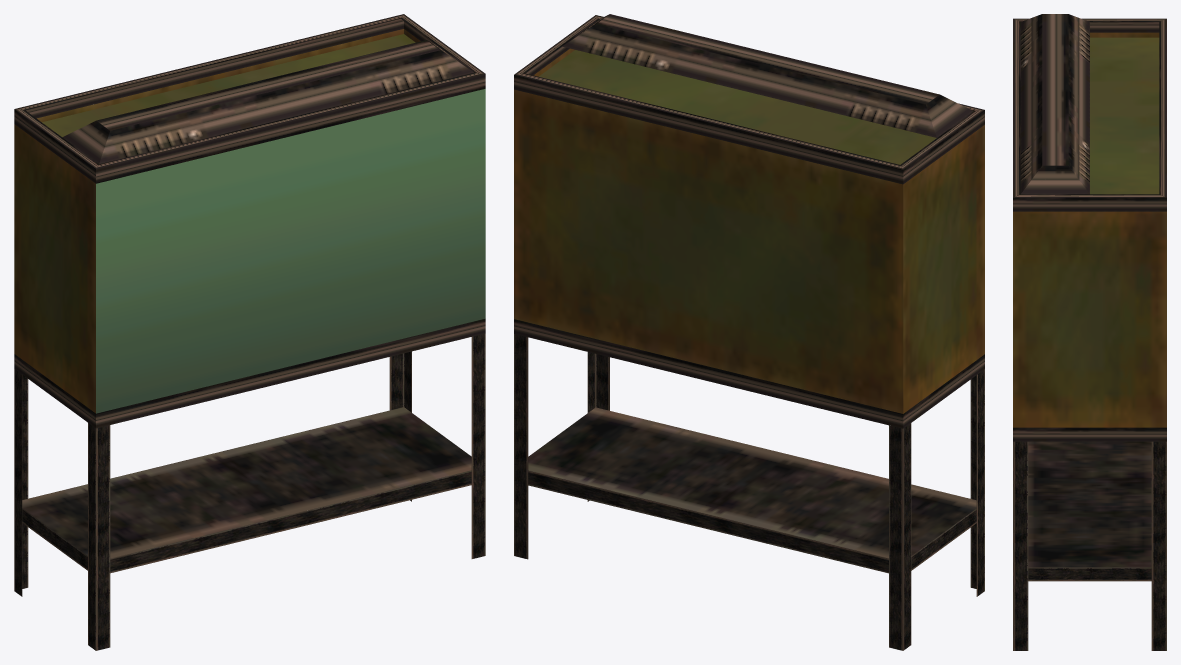
Rendered from fish_stand_slum.fbx.
3 renders of one model, left to right at view 1: azimuth 30°, elevation 25°; view 2: azimuth 150°, elevation 25°; view 3: azimuth 270°, elevation 25°, orthographic. The views are drawn at different scales.
Parts seen in each view (by area): view 1: mesh_0, mesh_2, mesh_1; view 2: mesh_1, mesh_2, mesh_0; view 3: mesh_1, mesh_2, mesh_0.
Boxes of the visible parts, <box> form: mesh_0: <box>14,14,485,428</box>; mesh_2: <box>14,333,485,650</box>; mesh_1: <box>14,29,420,413</box>; mesh_1: <box>514,48,984,413</box>; mesh_2: <box>514,334,984,650</box>; mesh_0: <box>514,14,984,428</box>; mesh_1: <box>1013,32,1166,427</box>; mesh_2: <box>1013,441,1166,650</box>; mesh_0: <box>1013,14,1166,441</box>.
Bounding box in the file's own units: 110 × 135 × 40.
Materials: 2 (2 with a texture image).
